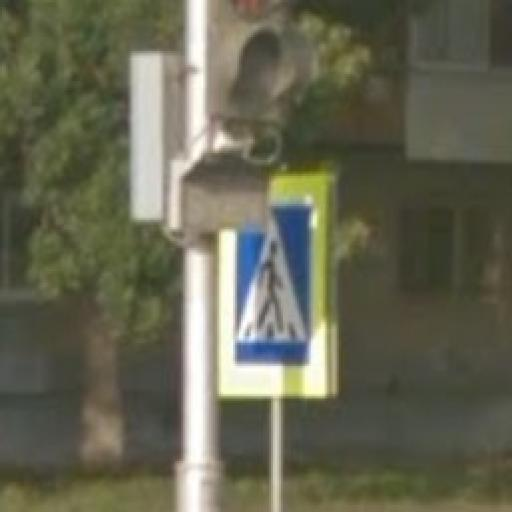traffic_sign: (218, 175, 330, 399)
